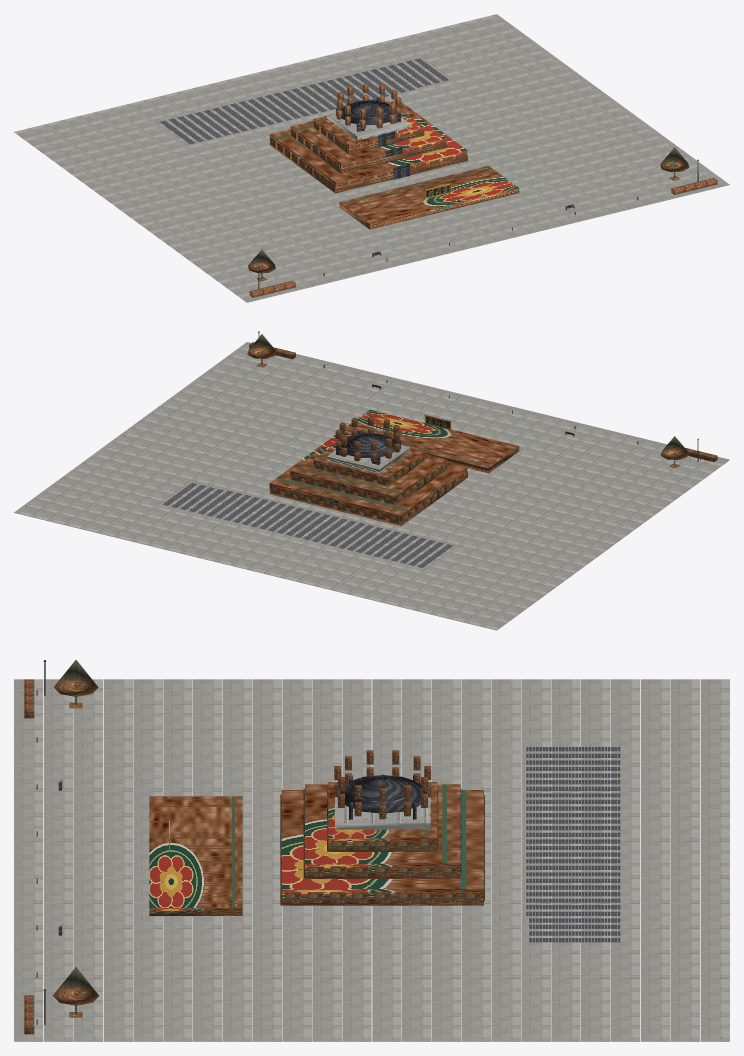
3 renders of one model, top to bottom at view 1: azimuth 30°, elevation 25°; view 2: azimuth 150°, elevation 25°; view 3: azimuth 270°, elevation 25°, orthographic. The views are drawn at different scales.
Parts seen in each view (by area): view 1: 11710_01_05506_049_01__plinth_ground_base, 11710_01_05506_049_02__mass_body_facade, 11710_01_05506_049_03__roof_deck_structure, 11710_01_05506_049_05__window_sash_glass, 11710_01_05506_049_06__landscape_greenery, 11710_01_05506_049_05__door_hardware_iron, 11710_01_05506_049_03__roof_metal_ornament; view 2: 11710_01_05506_049_01__plinth_ground_base, 11710_01_05506_049_02__mass_body_facade, 11710_01_05506_049_03__roof_deck_structure, 11710_01_05506_049_06__landscape_greenery, 11710_01_05506_049_05__window_sash_glass, 11710_01_05506_049_03__roof_metal_ornament; view 3: 11710_01_05506_049_01__plinth_ground_base, 11710_01_05506_049_02__mass_body_facade, 11710_01_05506_049_03__roof_deck_structure, 11710_01_05506_049_06__landscape_greenery, 11710_01_05506_049_05__window_sash_glass, 11710_01_05506_049_03__roof_metal_ornament, 11710_01_05506_049_05__door_hardware_iron.
Part boxes in pixels (x1,y1,x2,y2): 11710_01_05506_049_01__plinth_ground_base: [14, 14, 729, 302]; 11710_01_05506_049_02__mass_body_facade: [269, 101, 519, 229]; 11710_01_05506_049_03__roof_deck_structure: [160, 58, 448, 144]; 11710_01_05506_049_05__window_sash_glass: [336, 83, 465, 189]; 11710_01_05506_049_06__landscape_greenery: [248, 147, 717, 297]; 11710_01_05506_049_05__door_hardware_iron: [258, 97, 698, 288]; 11710_01_05506_049_03__roof_metal_ornament: [341, 100, 395, 125]; 11710_01_05506_049_01__plinth_ground_base: [14, 342, 729, 630]; 11710_01_05506_049_02__mass_body_facade: [269, 409, 519, 526]; 11710_01_05506_049_03__roof_deck_structure: [163, 483, 452, 567]; 11710_01_05506_049_06__landscape_greenery: [247, 334, 717, 468]; 11710_01_05506_049_05__window_sash_glass: [335, 416, 400, 461]; 11710_01_05506_049_03__roof_metal_ornament: [340, 433, 395, 458]; 11710_01_05506_049_01__plinth_ground_base: [14, 679, 729, 1041]; 11710_01_05506_049_02__mass_body_facade: [149, 782, 484, 916]; 11710_01_05506_049_03__roof_deck_structure: [526, 747, 620, 942]; 11710_01_05506_049_06__landscape_greenery: [24, 660, 99, 1034]; 11710_01_05506_049_05__window_sash_glass: [280, 750, 431, 894]; 11710_01_05506_049_03__roof_metal_ornament: [338, 774, 427, 813]; 11710_01_05506_049_05__door_hardware_iron: [36, 660, 416, 1024].
Bounding box in the file's own units: 110 × 12.8 × 91.95.
Materials: 7 (7 with a texture image).
